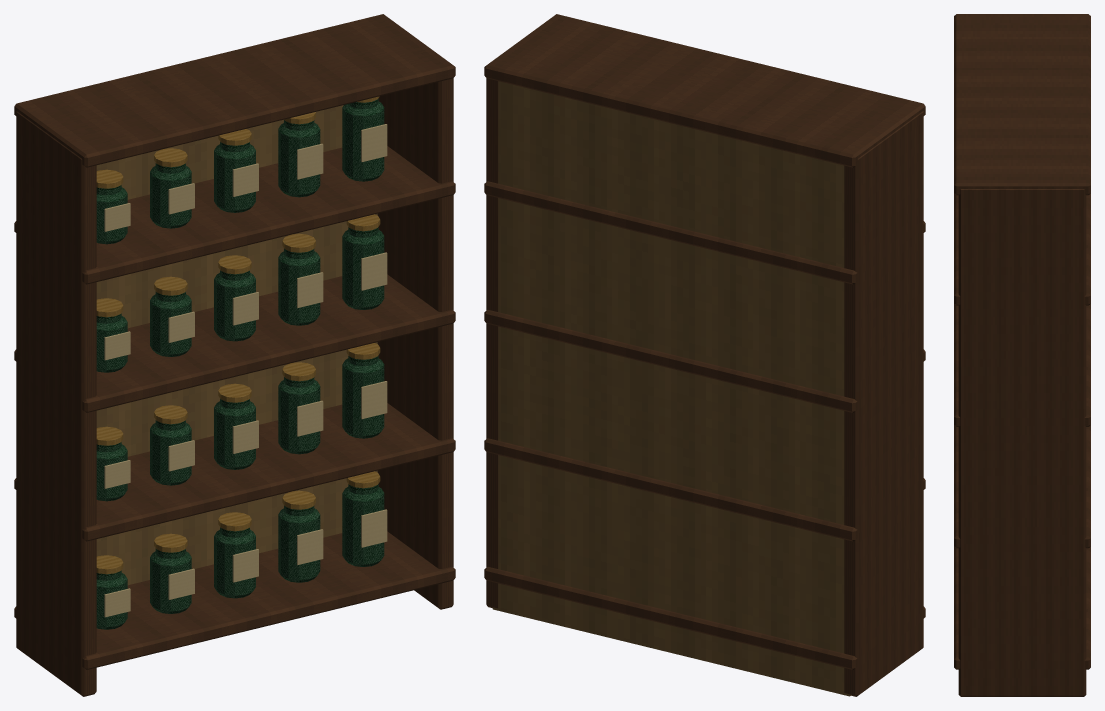
File: level_lived_pantry.glb
3 views of the same model, side by side, from view 1: azimuth 30°, elevation 25°; view 2: azimuth 150°, elevation 25°; view 3: azimuth 270°, elevation 25° (orthographic). The views are drawn at different scales.
Visible parts, largest first — view 1: level_lived_pantry; view 2: level_lived_pantry; view 3: level_lived_pantry.
Boxes of the visible parts, x1,y1,x2,y2 form: level_lived_pantry: [14, 14, 455, 696]; level_lived_pantry: [484, 14, 925, 696]; level_lived_pantry: [954, 14, 1090, 696].
Size of the model in its own units: 1.33 by 1.86 by 0.45.
Materials: 5 (5 with a texture image).
